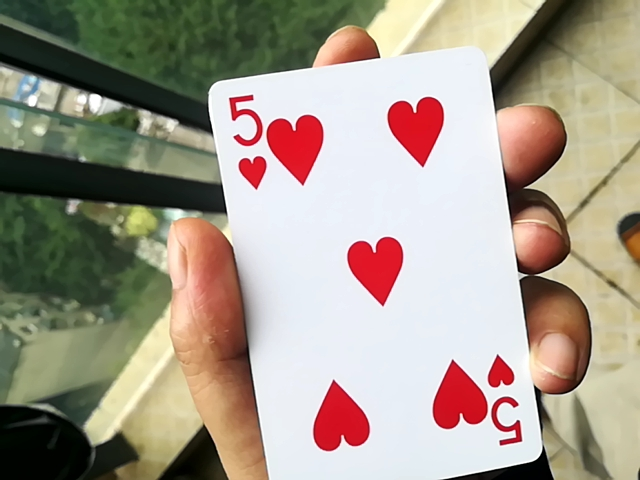hx 5: (199, 50, 550, 480)
